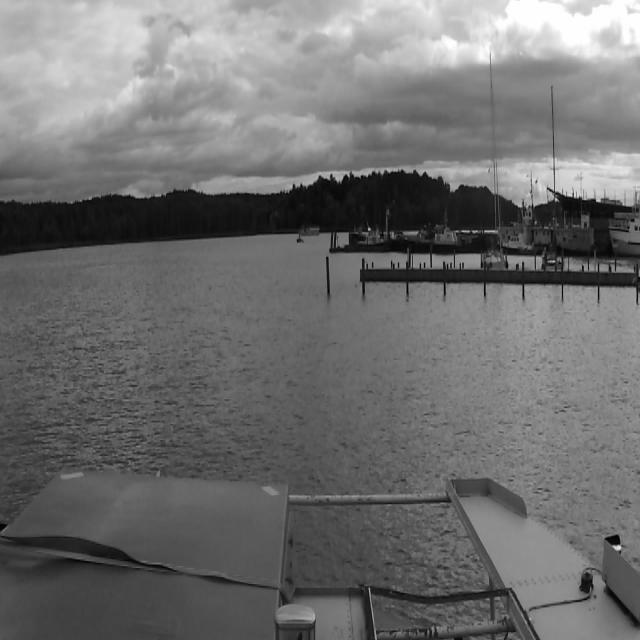ship: (482, 48, 510, 273), (348, 208, 401, 252), (406, 224, 460, 252), (609, 210, 639, 258), (498, 228, 534, 256)
